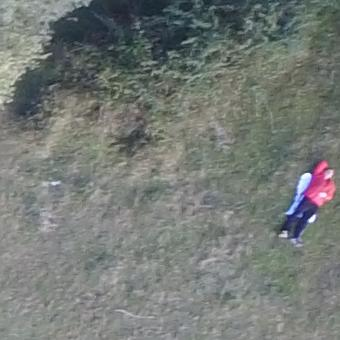human: (277, 159, 337, 245)
